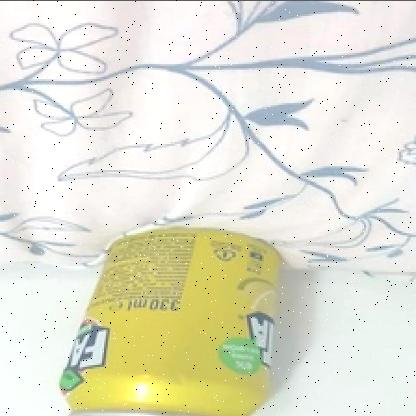Can: (59, 223, 284, 416)
